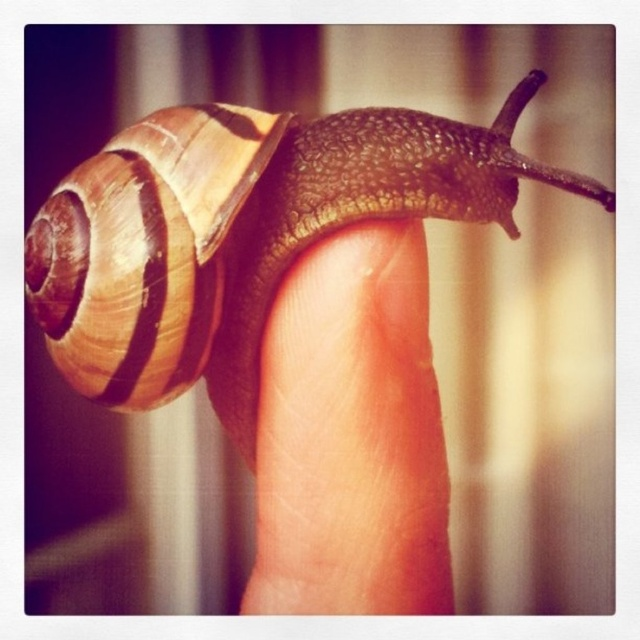Snail: (22, 46, 622, 422)
